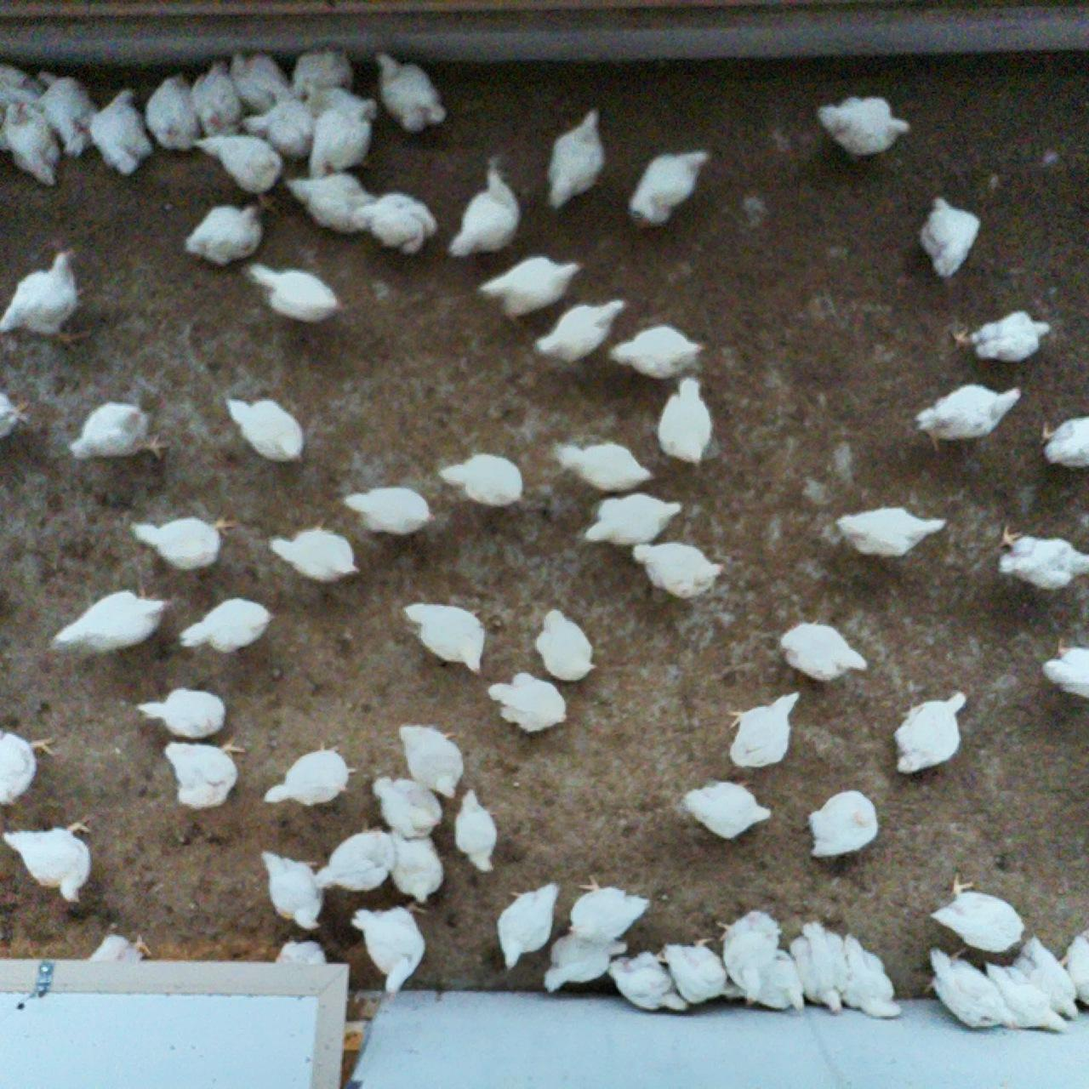chicken: (0, 242, 83, 353), (928, 868, 1029, 955), (1, 816, 98, 904), (923, 946, 1018, 1032), (55, 586, 171, 653), (908, 378, 1019, 445), (811, 90, 914, 162), (198, 125, 283, 212), (491, 875, 566, 970), (448, 169, 525, 261), (398, 600, 487, 679), (624, 148, 711, 228), (991, 521, 1089, 591), (354, 904, 430, 994), (258, 741, 358, 809), (476, 256, 579, 322), (125, 511, 240, 570), (307, 88, 378, 183), (543, 104, 607, 209), (980, 958, 1067, 1035), (372, 50, 448, 137), (722, 689, 804, 769), (891, 687, 966, 773), (715, 909, 780, 1008), (1008, 932, 1079, 1022), (31, 63, 96, 161), (311, 827, 398, 900), (265, 518, 361, 584), (563, 875, 659, 941), (483, 661, 572, 732), (951, 305, 1054, 366), (159, 736, 245, 809), (244, 260, 343, 323), (787, 922, 852, 1017), (836, 505, 945, 561), (539, 298, 630, 365), (182, 200, 266, 272), (835, 935, 904, 1020), (348, 192, 438, 257), (584, 490, 684, 548), (777, 623, 872, 684), (284, 172, 373, 236), (916, 192, 981, 279), (68, 401, 167, 458), (257, 847, 324, 931), (679, 778, 768, 841), (657, 932, 731, 1007), (0, 97, 63, 185), (627, 541, 726, 597), (91, 85, 153, 173), (396, 722, 464, 802), (606, 948, 688, 1014), (556, 437, 658, 490), (805, 785, 879, 858), (537, 936, 628, 995), (613, 321, 705, 379), (178, 596, 275, 651), (228, 396, 304, 466), (385, 824, 447, 908), (135, 686, 228, 741), (656, 375, 712, 466), (141, 73, 201, 156), (534, 606, 597, 683), (243, 95, 316, 161), (440, 451, 526, 507), (344, 485, 437, 535), (450, 787, 503, 874), (745, 948, 812, 1016), (224, 50, 294, 114), (365, 775, 440, 834), (289, 41, 355, 107), (190, 56, 241, 141), (0, 730, 57, 803), (1035, 631, 1089, 700), (1039, 406, 1089, 469), (298, 80, 364, 122), (1059, 927, 1089, 1014), (84, 928, 153, 964), (0, 58, 43, 107), (272, 937, 328, 970), (0, 389, 31, 443)
